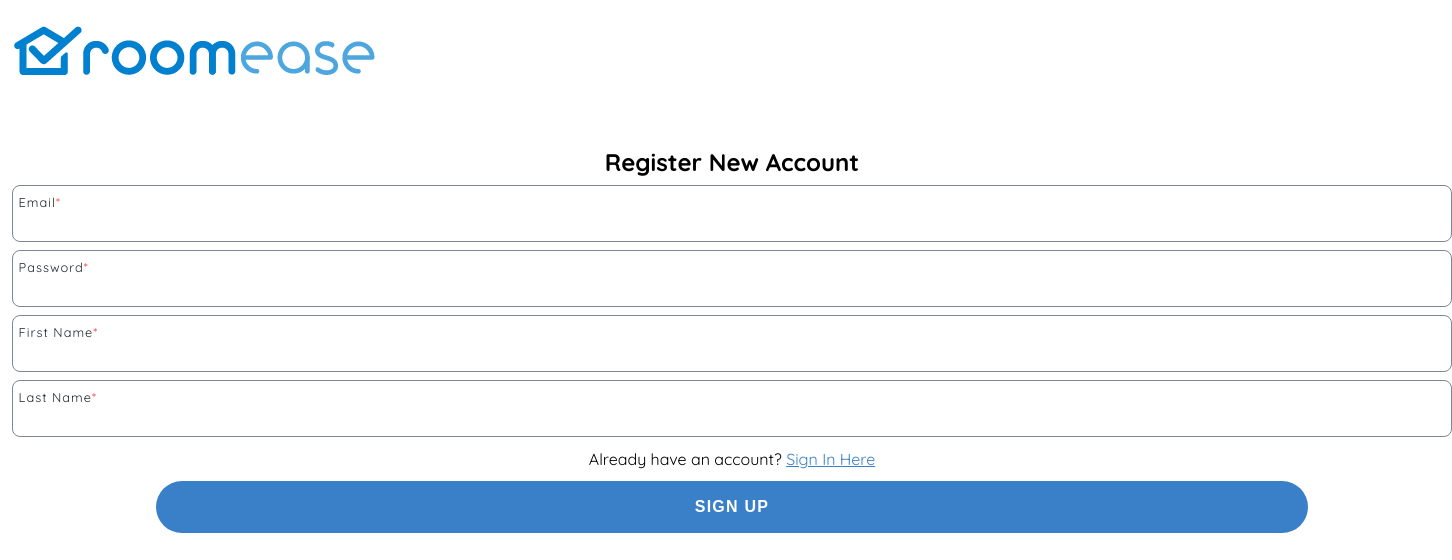
Register Form Error › should display error when promise rejects
The width and height of the screenshot is (1452, 560).
Type "mrkrabs@mrkrabs.com" into the field labelled "Email*" at (732, 223), box [17,210,1447,237]
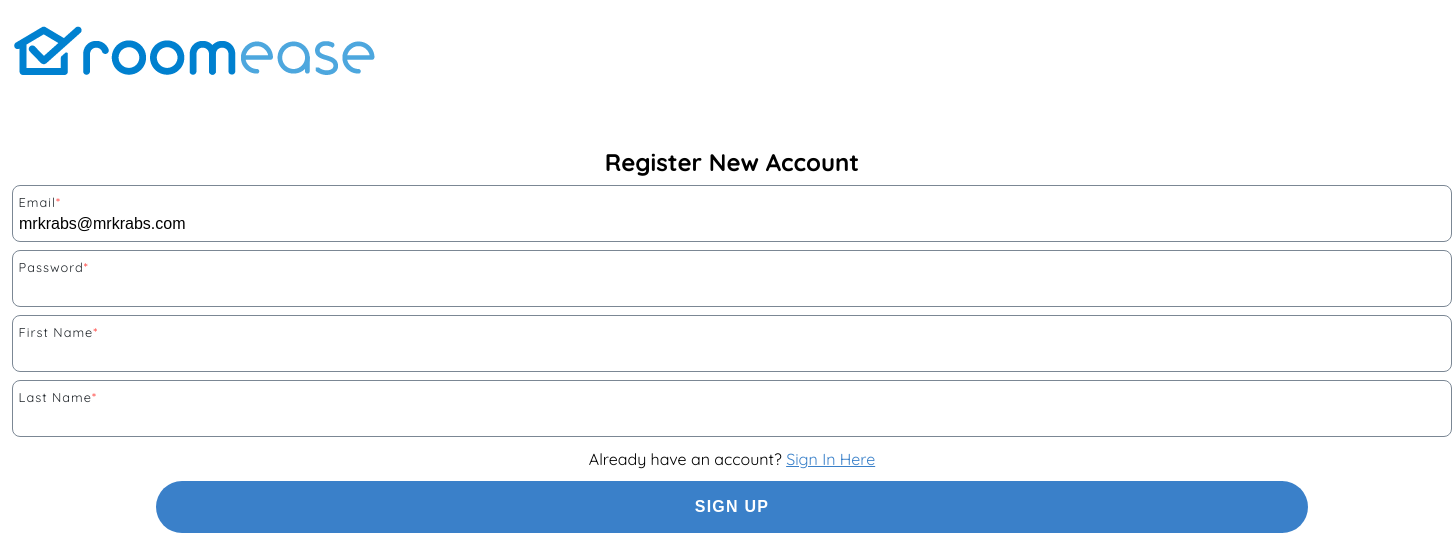
Type "password" into the password field labelled "Password*" at (732, 288), box [17,275,1447,302]
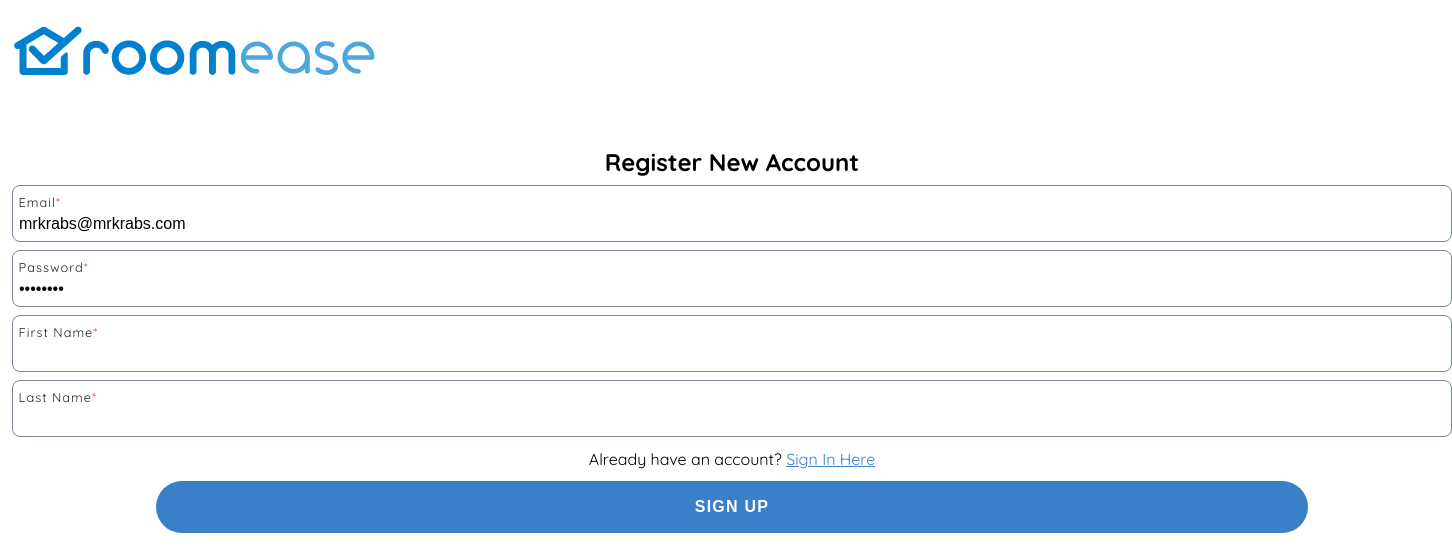
Type "Eugene" into the field labelled "First Name*" at (732, 353), box [17,340,1447,367]
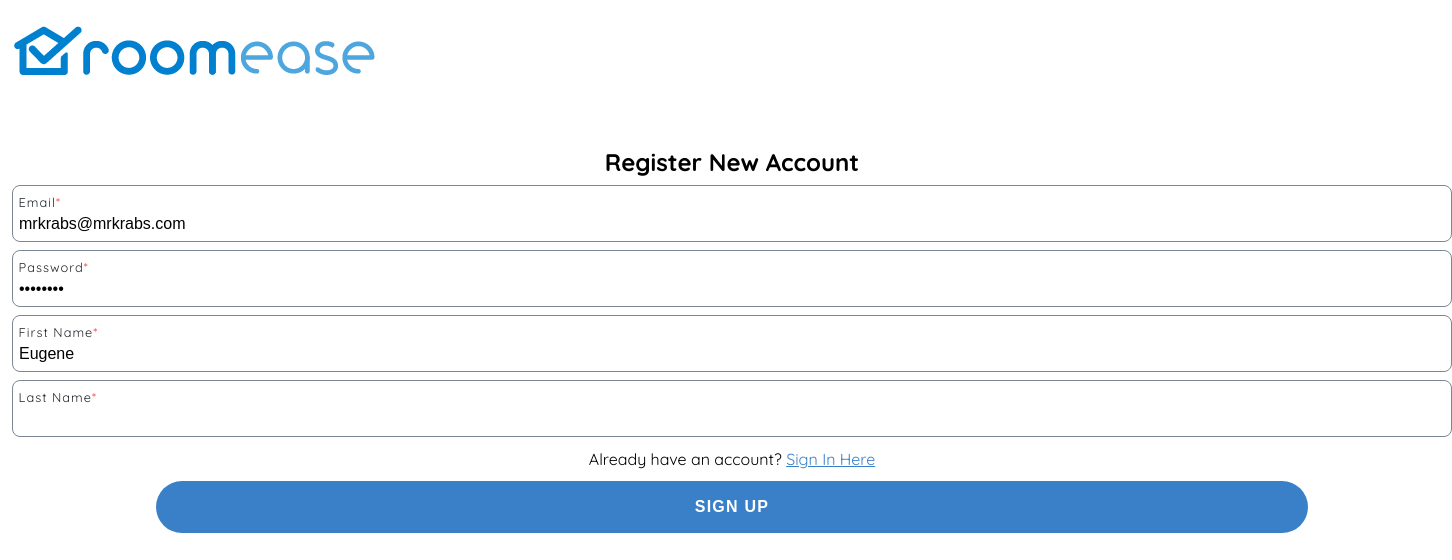
Type "Krabs" into the field labelled "Last Name*" at (732, 418), box [17,405,1447,432]
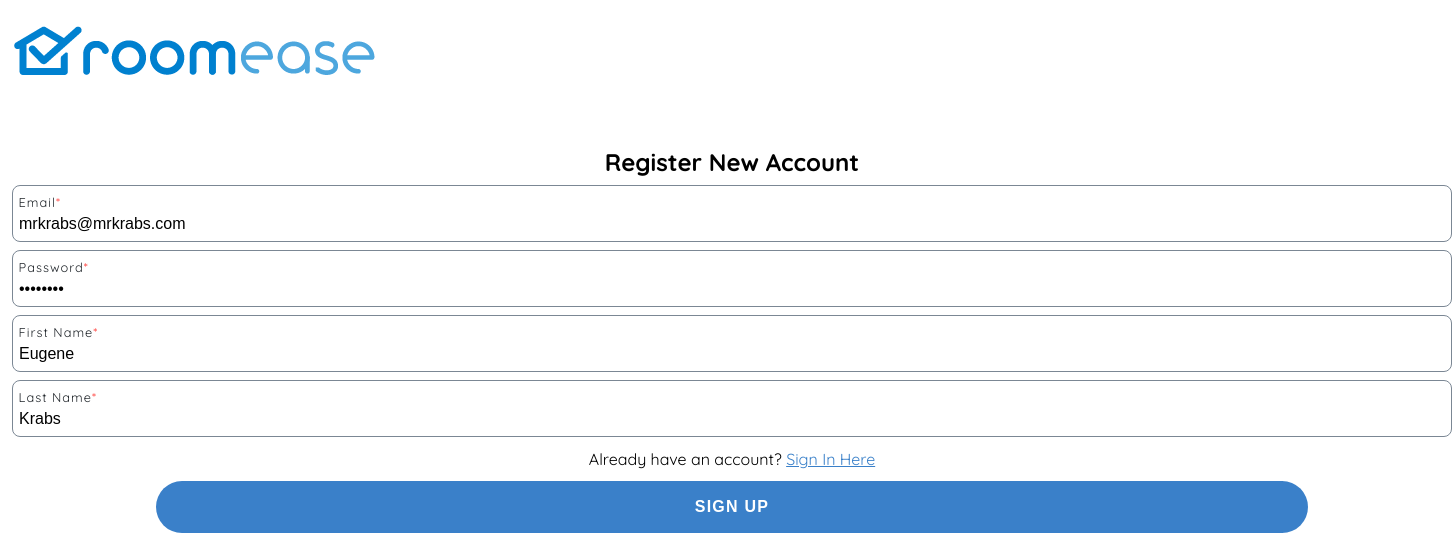
Submit the form from the button "SIGN UP", box [156,481,1308,533]
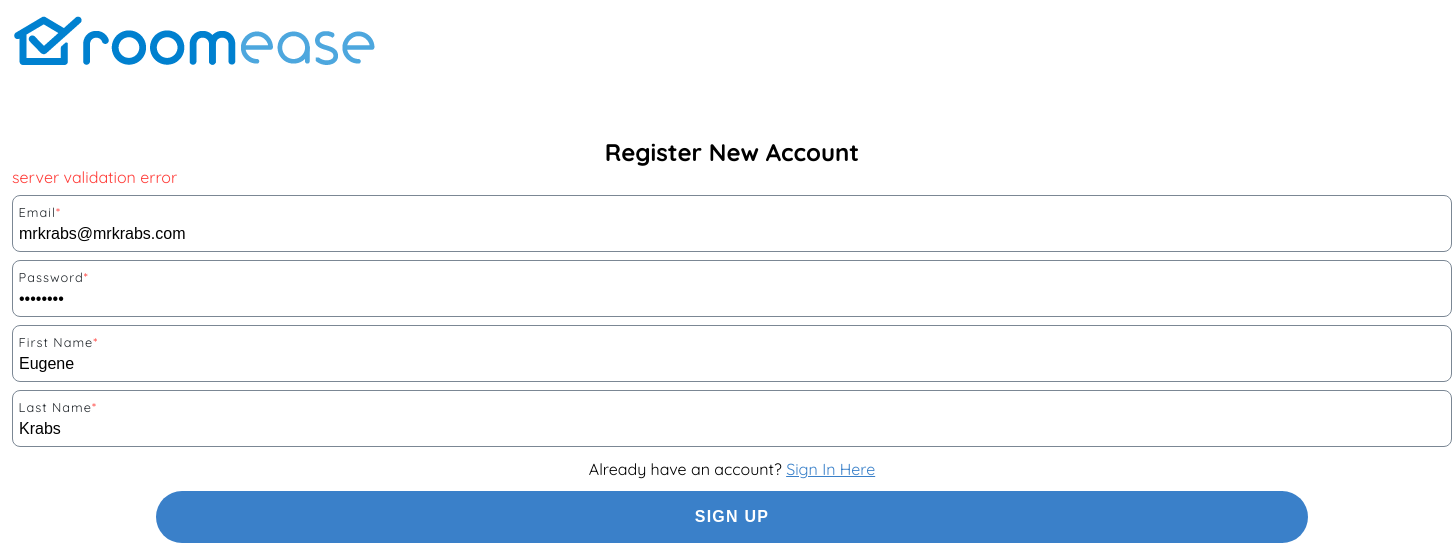
Check: the number of messages is 1, box [12,167,177,187]
